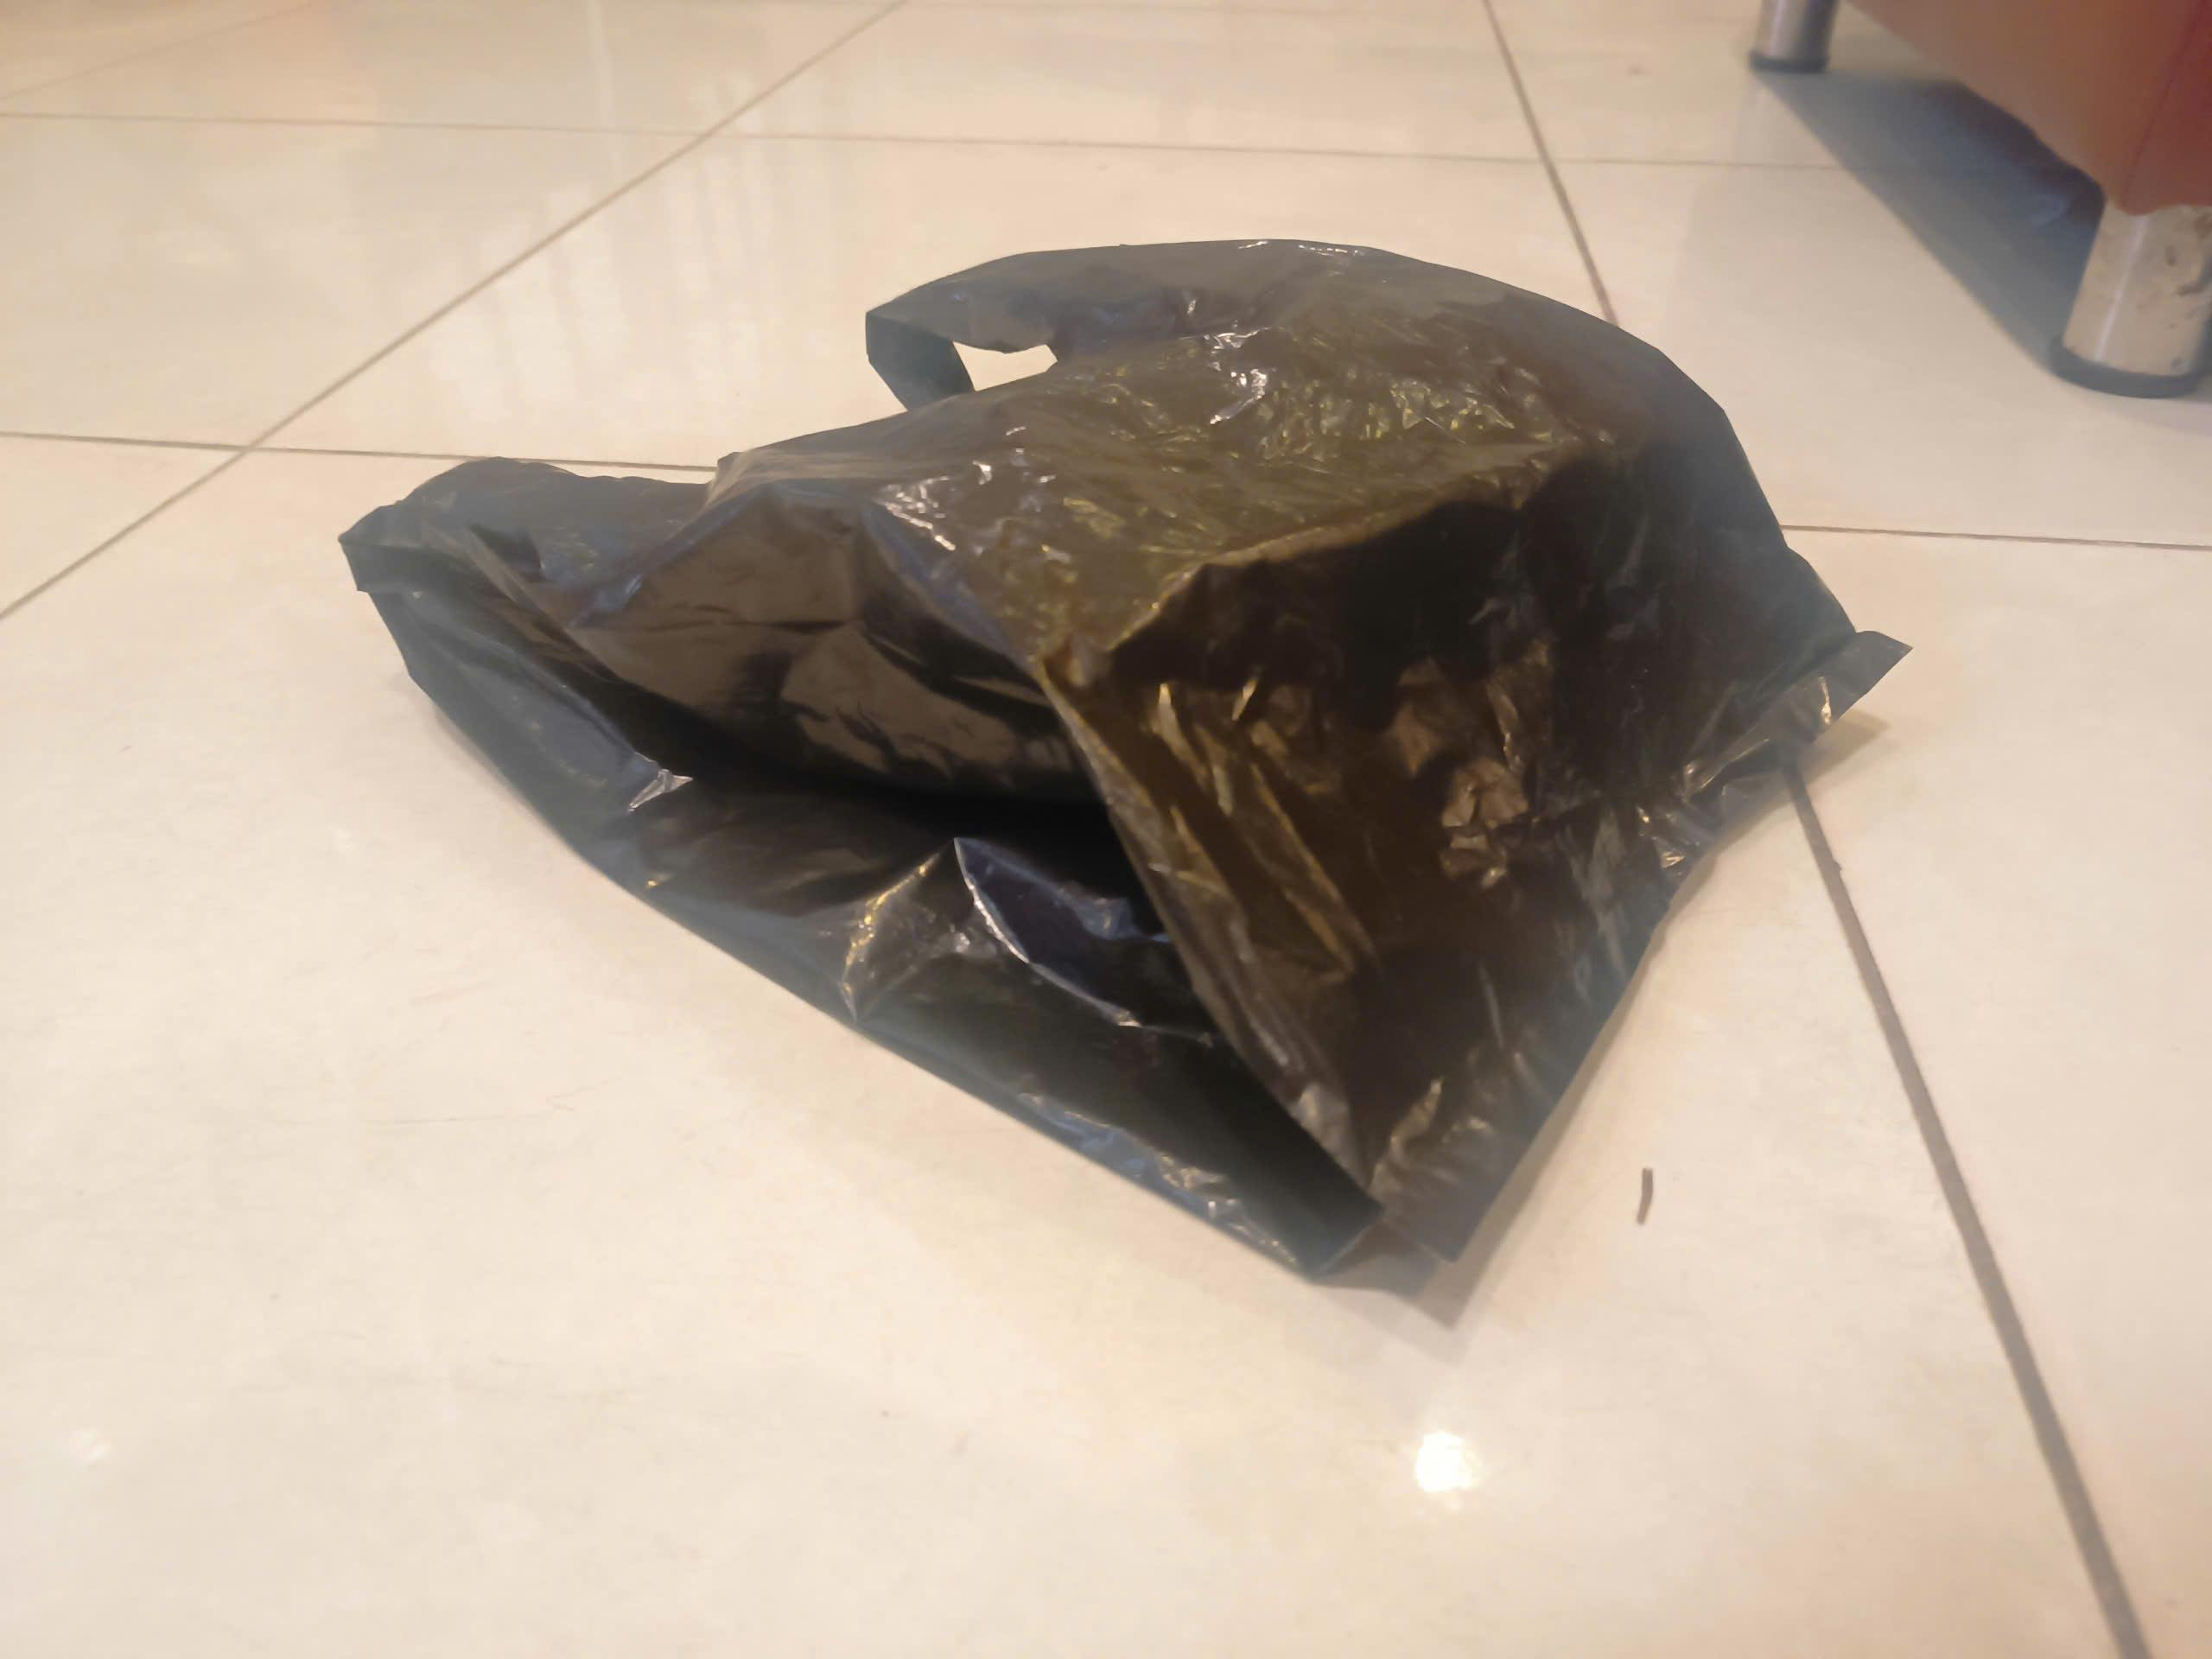Vo co: (334, 237, 1914, 1286)
